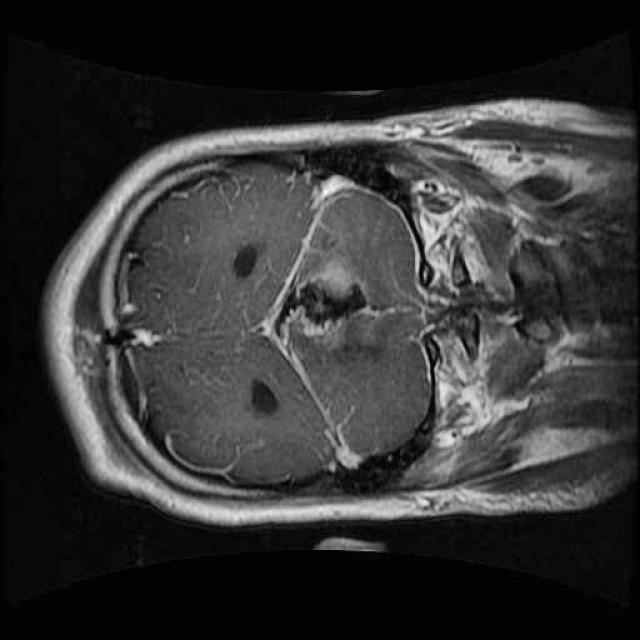Non-Tumor: (253, 254, 409, 360)
